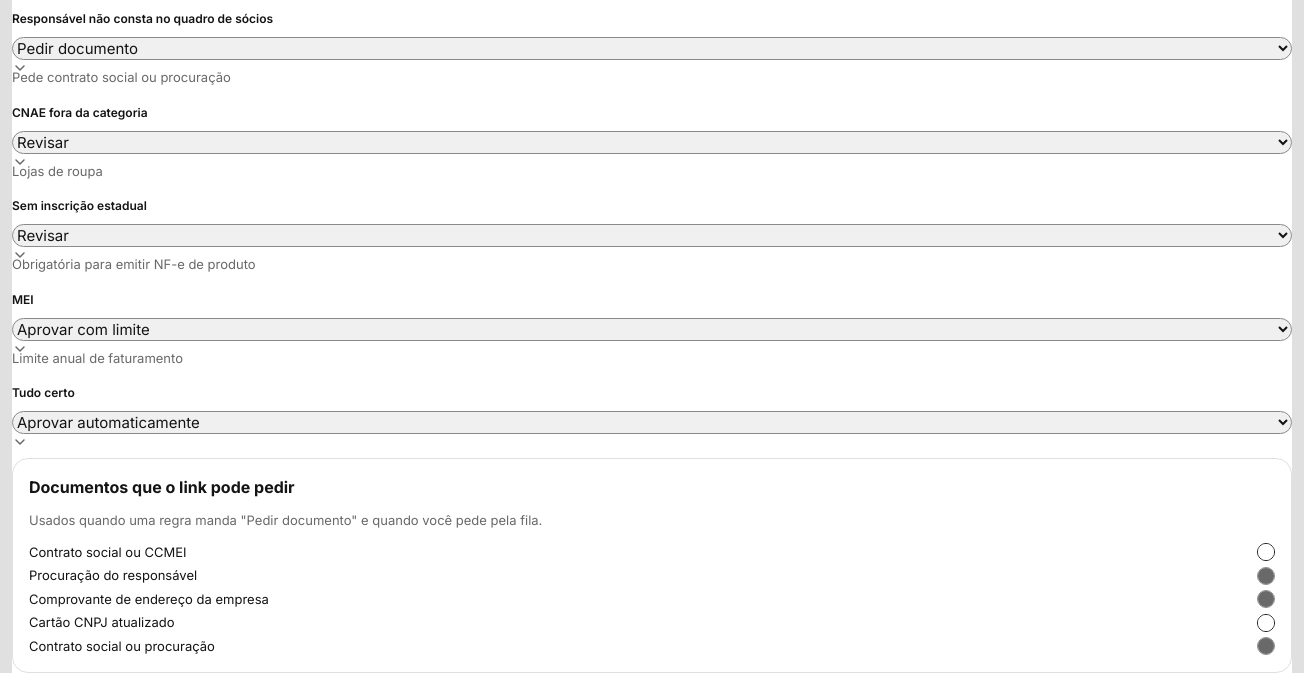
Scenario: PolicyForm › Pedir documento with no document: nodocs beside the card and the rule, the save blocked, focus on the rule
This screenshot has width=1304, height=673.
(page scrolled)
Click the switch labelled "Contrato social ou CCMEI".
click(108, 552)  # box [29,542,1275,562]
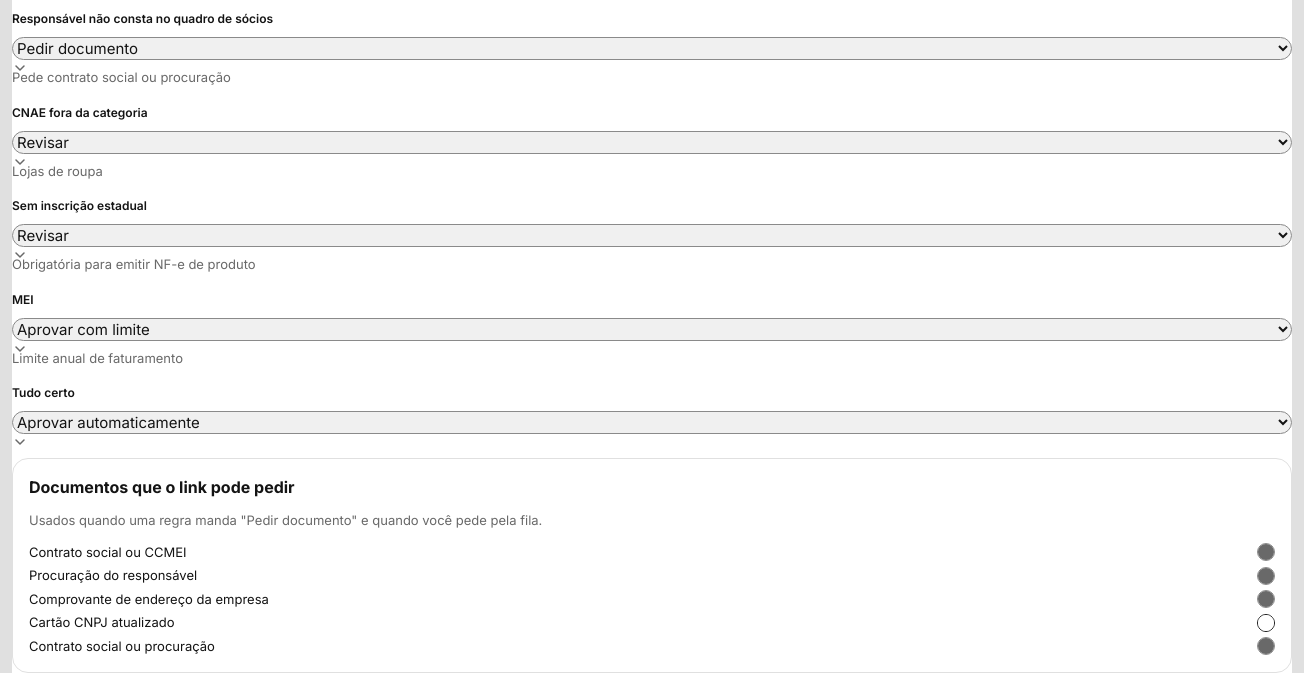
Click the switch labelled "Cartão CNPJ atualizado".
click(102, 622)  # box [29,613,1275,632]
(page scrolled)
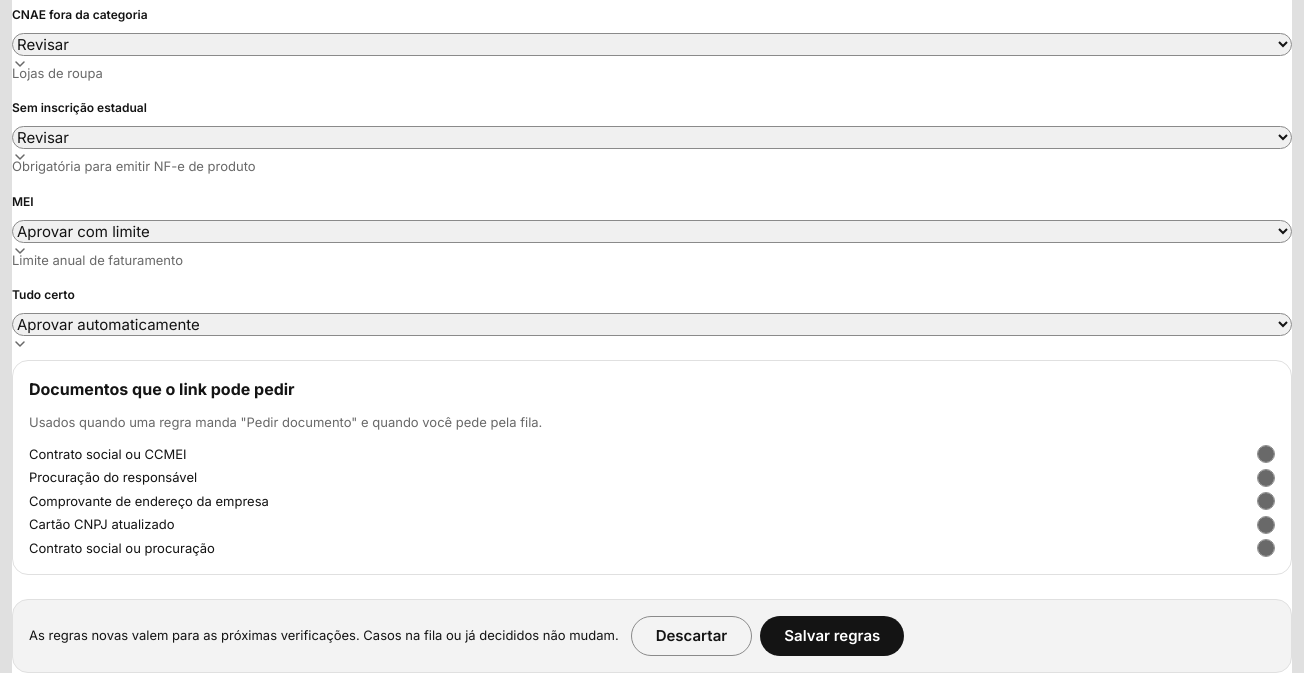
Click the button "Salvar regras".
click(832, 636)  # box [760,616,904,656]
(page scrolled)
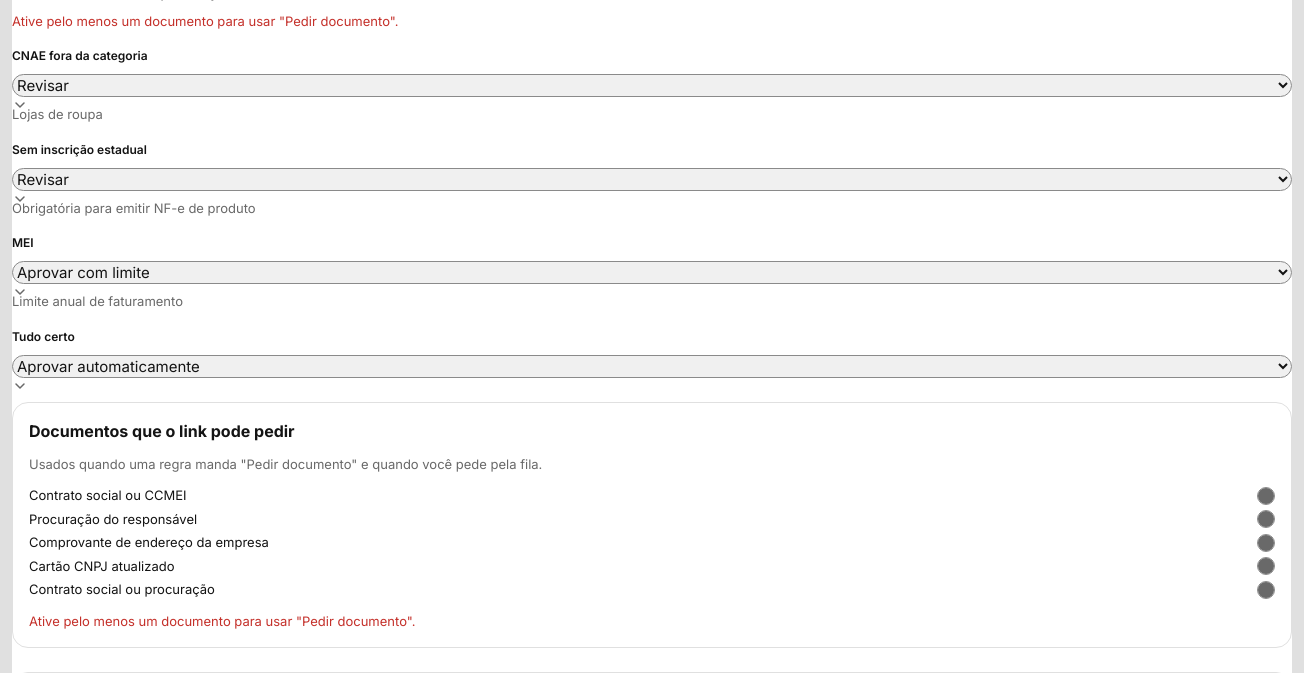
Check: the element "Documentos que o link pode pedir" shows "Ative pelo menos um documento para usar \"Pedir documento\".", box [29,612,416,628]
